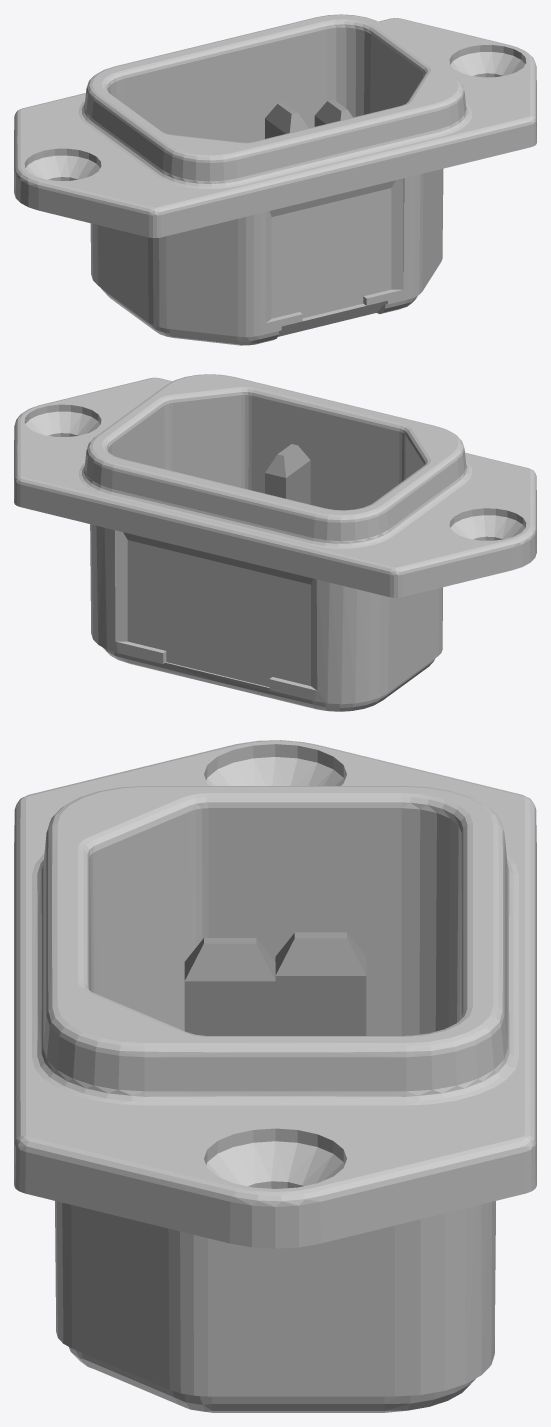
The model's file is AC Power.fbx.
The picture shows the model from 3 angles, top to bottom: view 1: azimuth 30°, elevation 25°; view 2: azimuth 150°, elevation 25°; view 3: azimuth 270°, elevation 25°; orthographic projection. The views are drawn at different scales.
Visible parts, largest first — view 1: Shell, Pins; view 2: Shell, Pins; view 3: Shell, Pins.
Part boxes in pixels (left/top/right/bottom): Shell: left=14, top=14, right=536, bottom=345; Pins: left=184, top=99, right=352, bottom=138; Shell: left=14, top=374, right=536, bottom=711; Pins: left=265, top=444, right=310, bottom=504; Shell: left=14, top=740, right=536, bottom=1412; Pins: left=184, top=932, right=366, bottom=1035.
Size of the model in its own units: 48 by 18.7 by 23.
